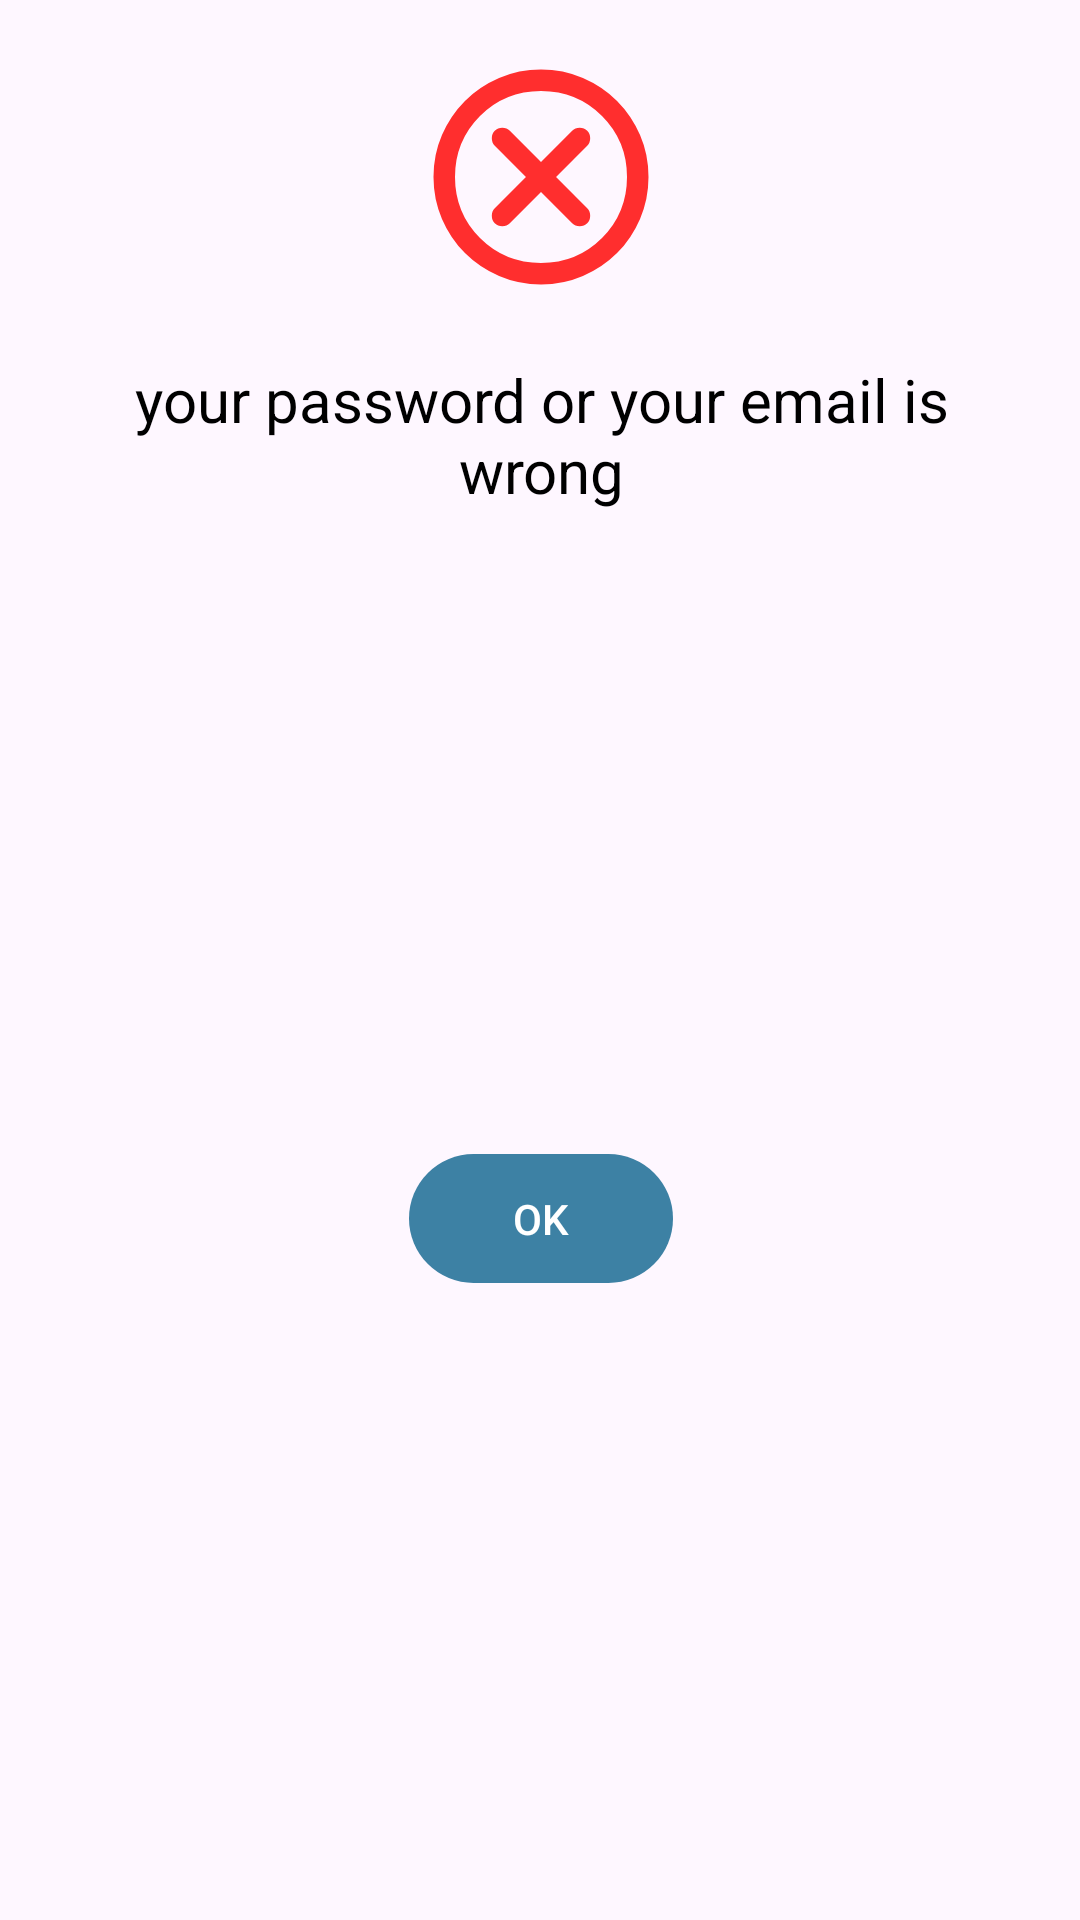

Icons on this 1080 × 1920 Android screen, each with its box as BBox(x1, y1, x2, y2):
symbols cancel rounded: BBox(433, 69, 649, 285)
